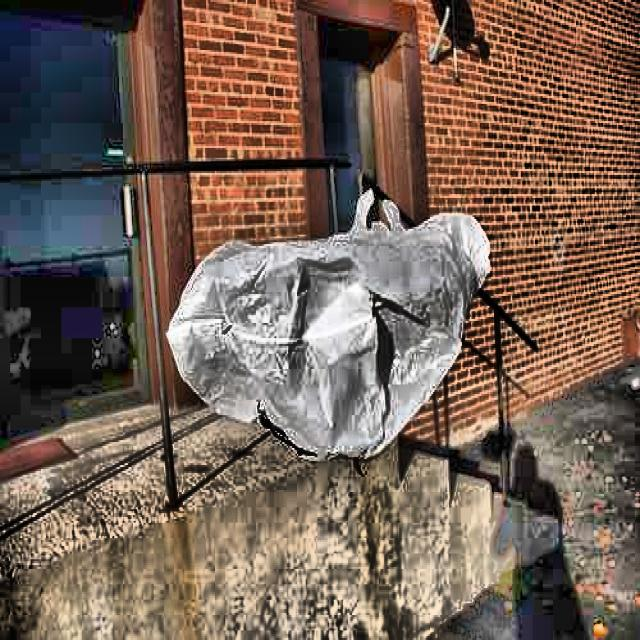Plastic: (173, 184, 508, 466)
